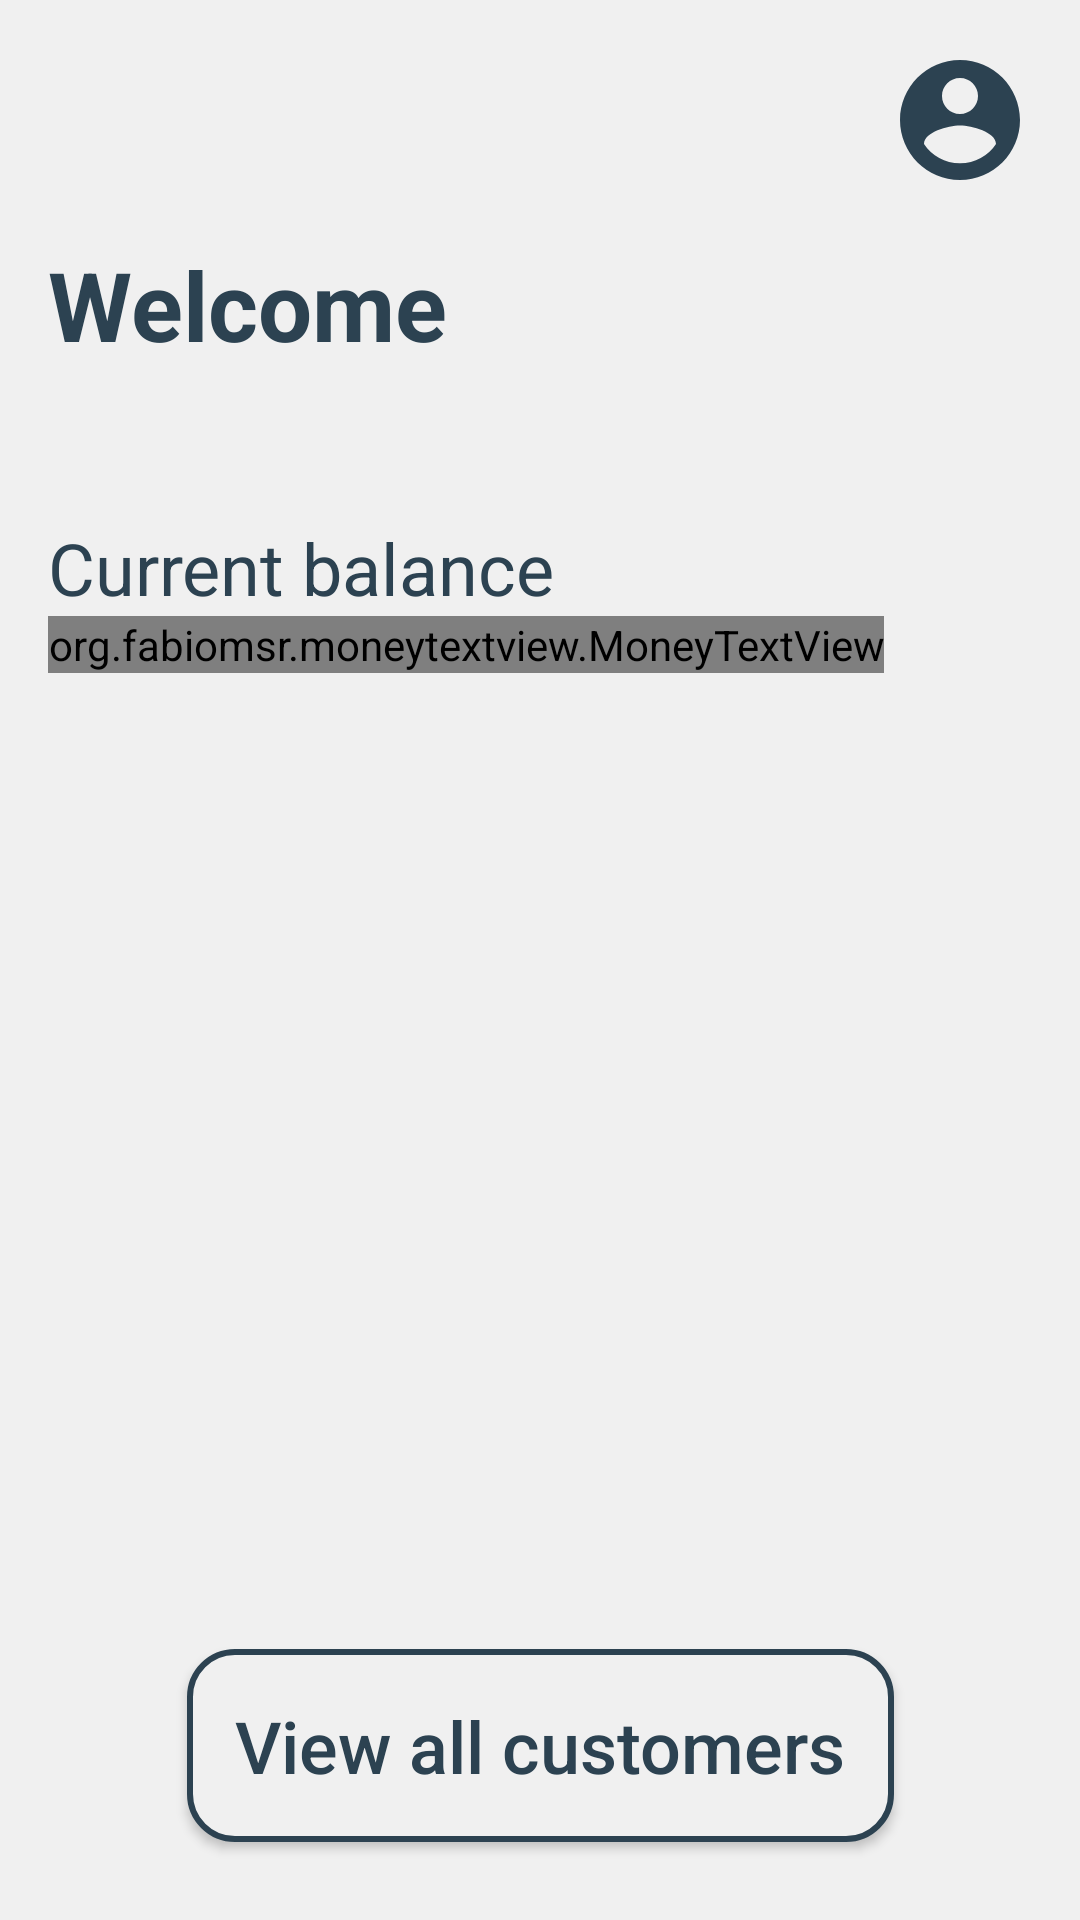

Screen size 1080×1920. Icon name, then its box in pixels as (x1, y1, x2, y2):
account circle: (900, 60, 1020, 180)
